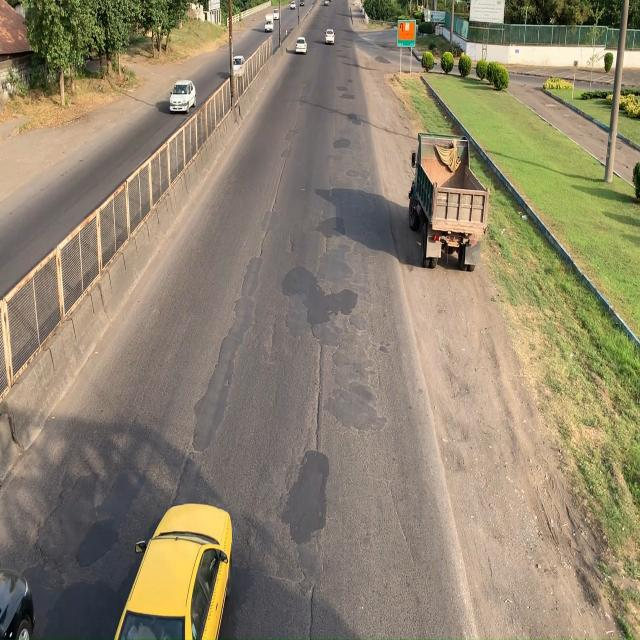Truck: (409, 132, 492, 270)
cars: (110, 504, 232, 640), (169, 78, 196, 113)
